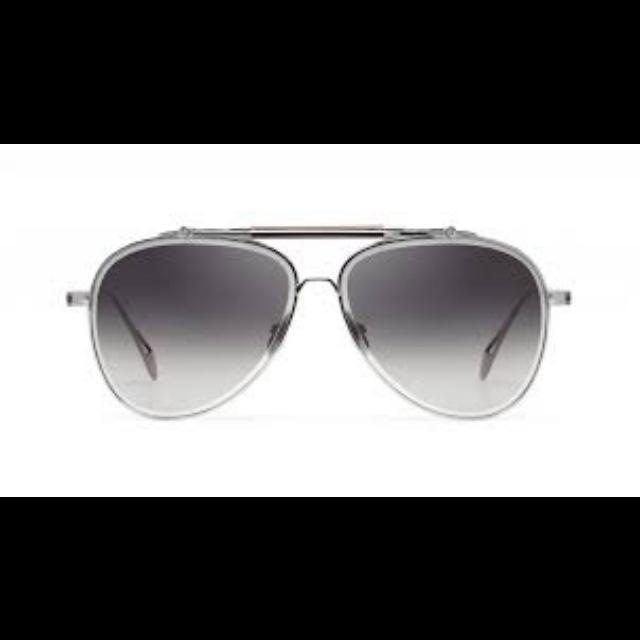glasses: (58, 201, 606, 427)
